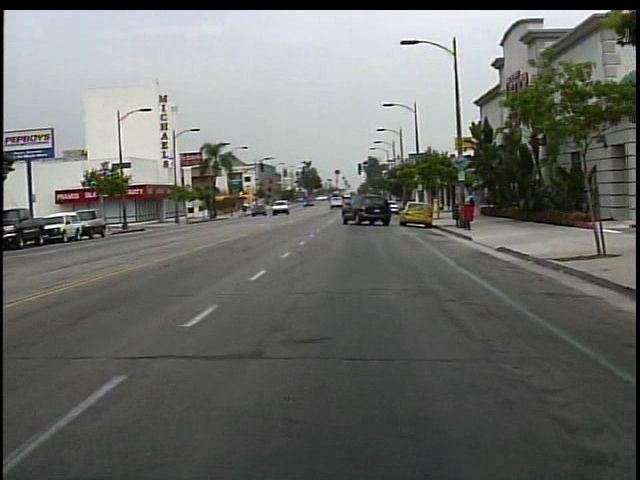person: (461, 187, 483, 220)
